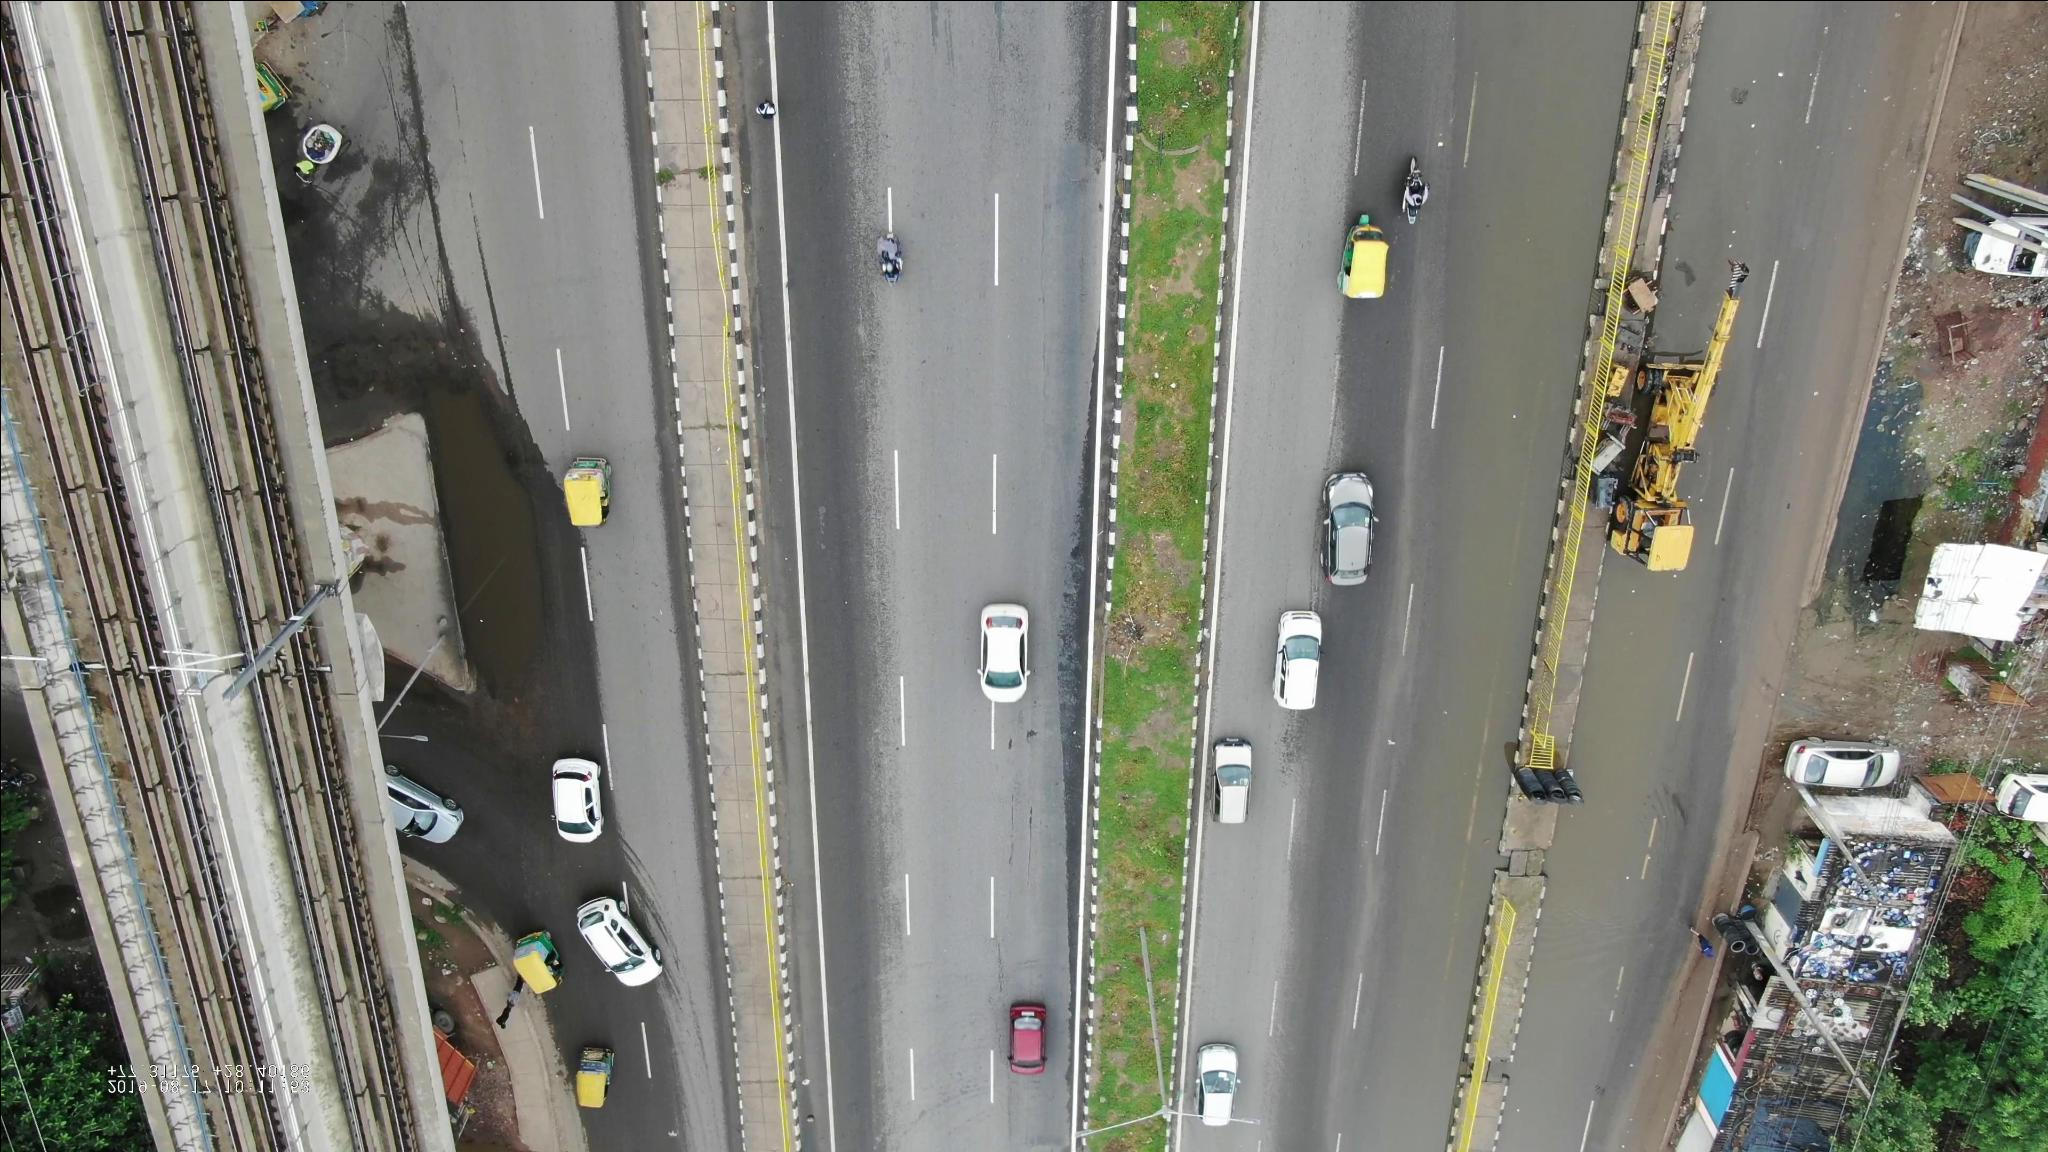Waterlogging: (1525, 609, 1694, 1006), (1362, 686, 1532, 1025), (1431, 257, 1589, 599)
